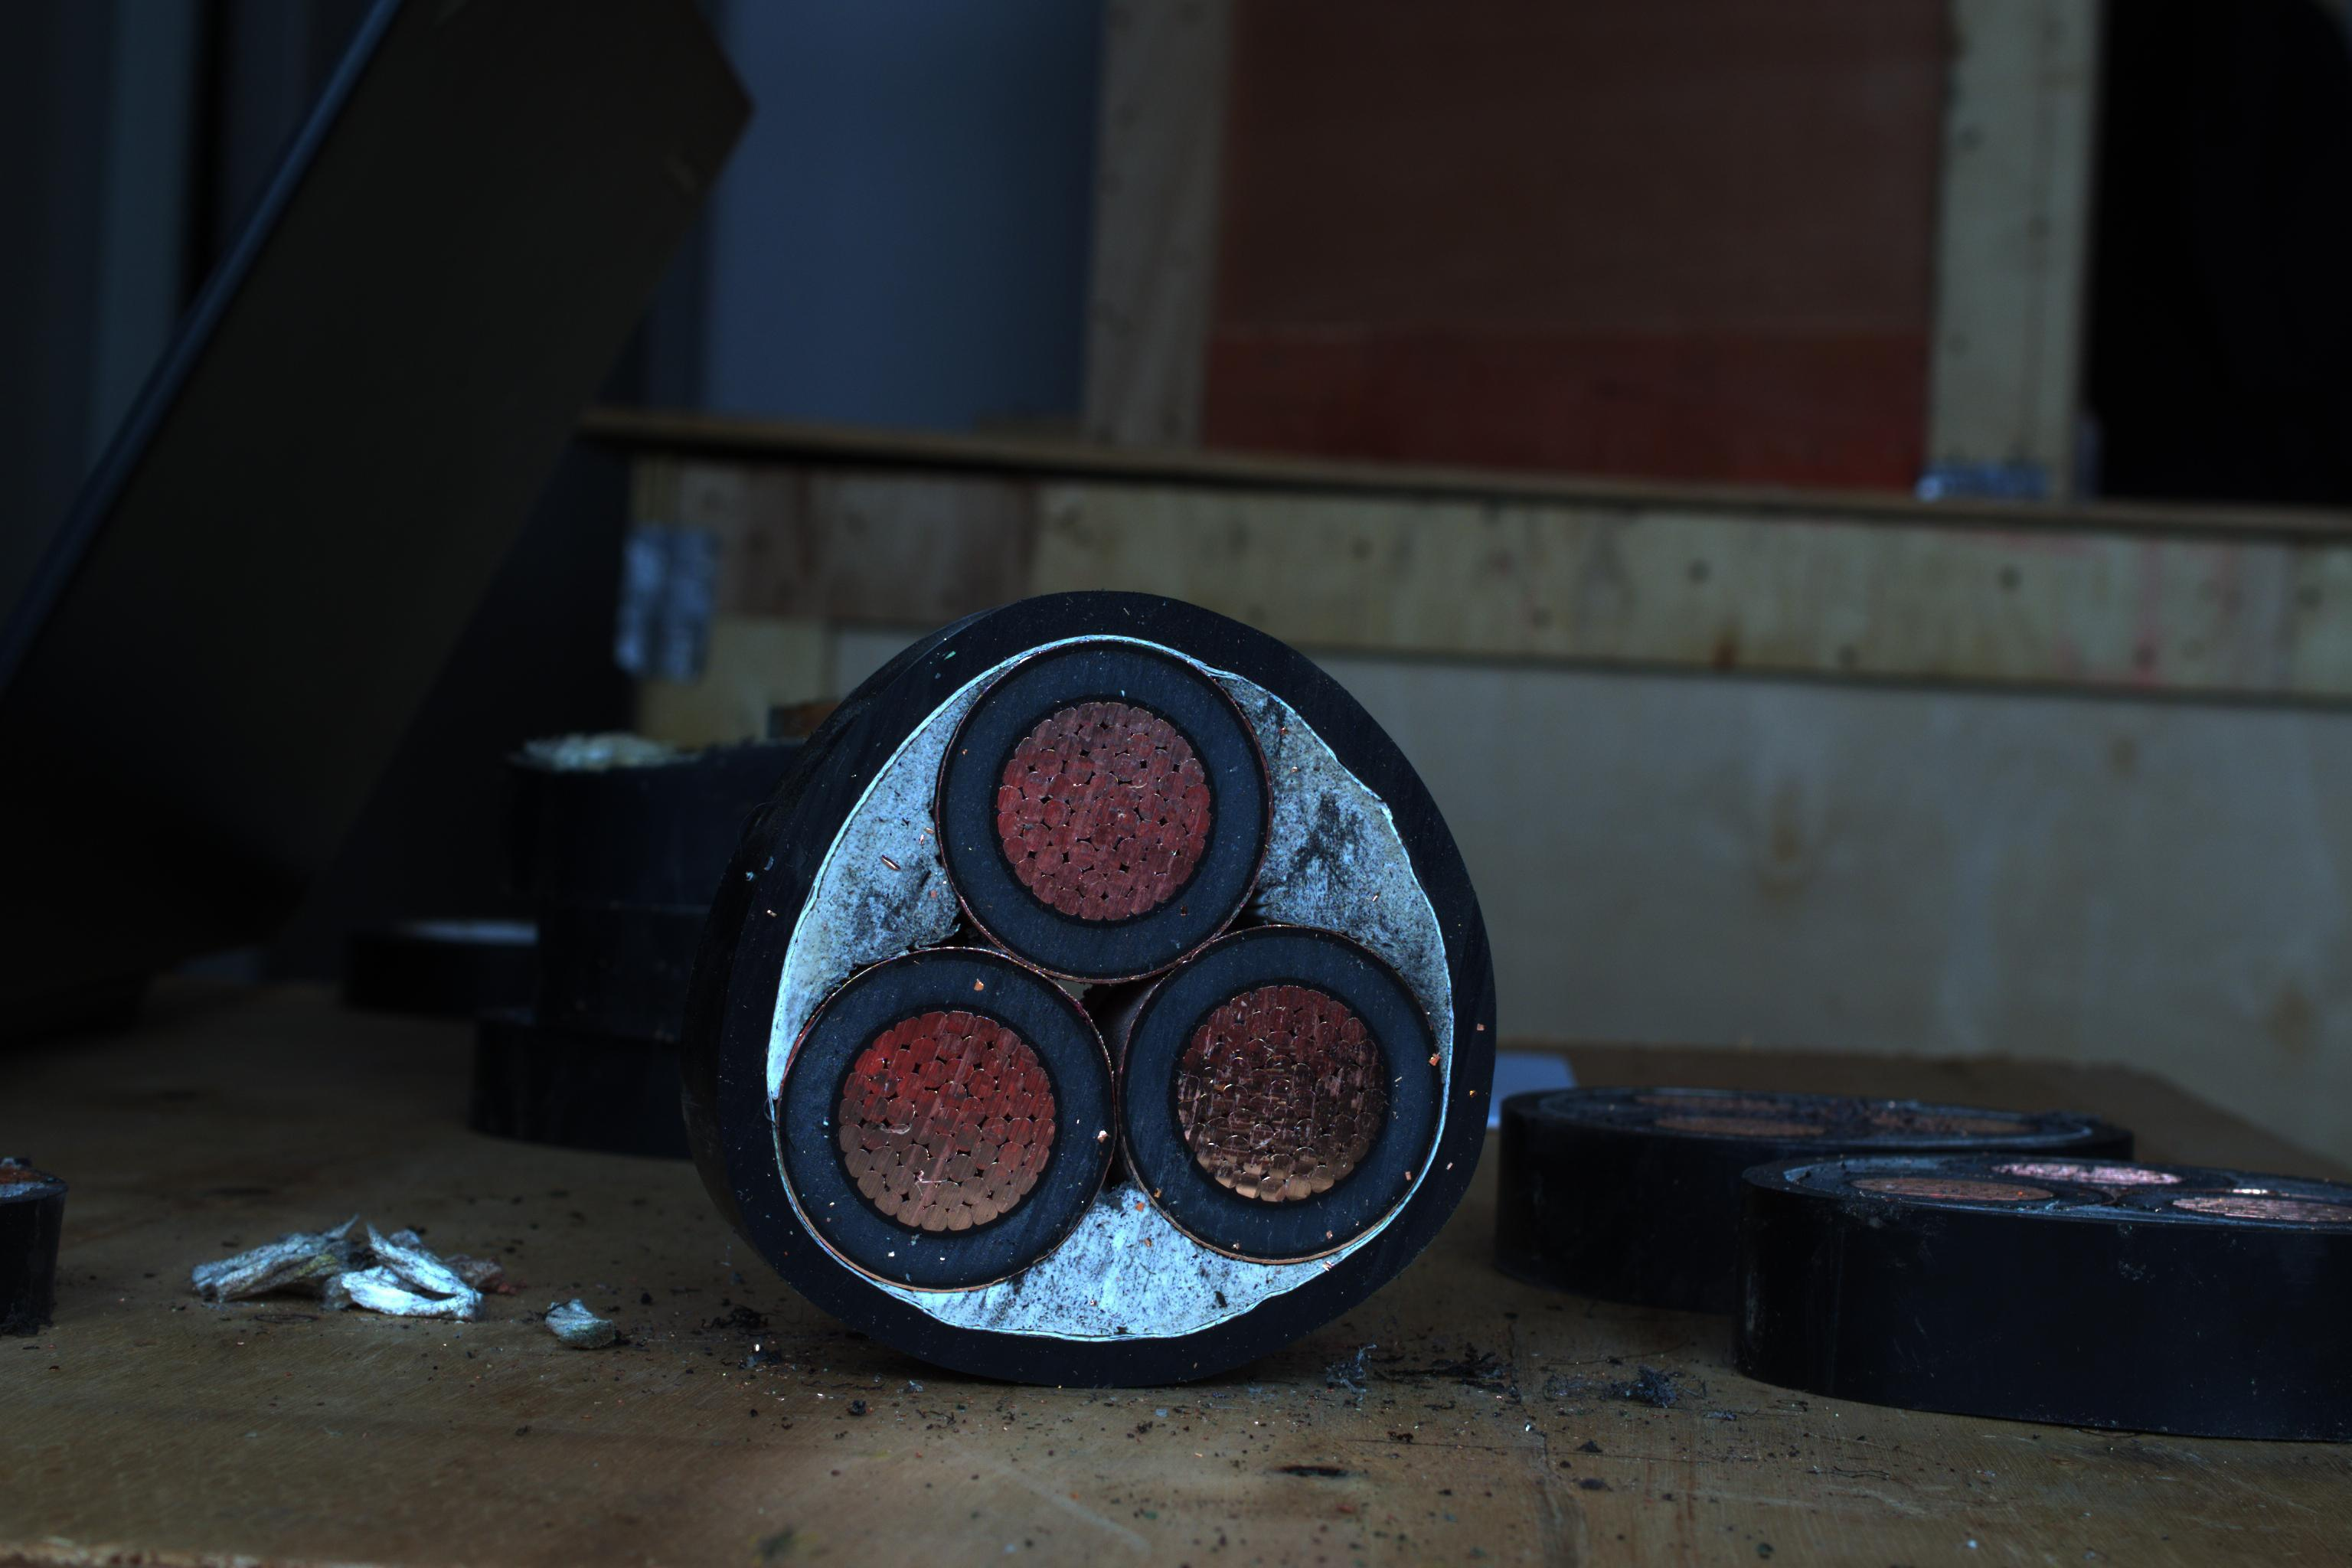ZA_YJV_8.7_10kV_3x400: (747, 591, 1496, 1347)
